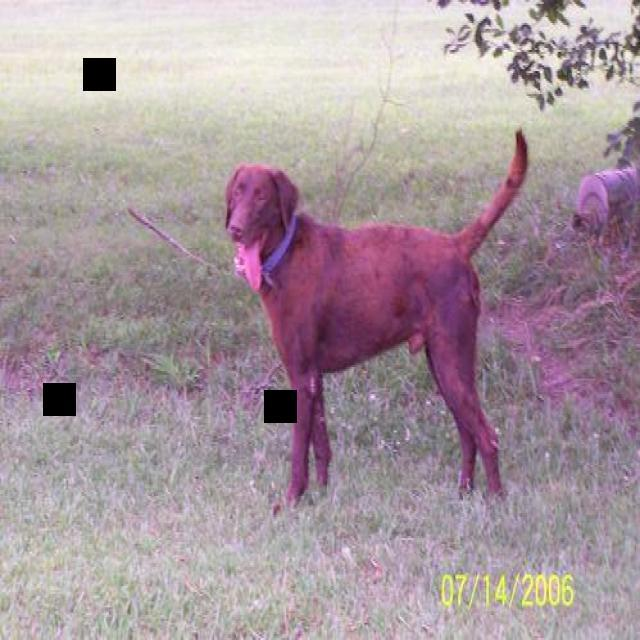adult_dog: (214, 126, 536, 523)
